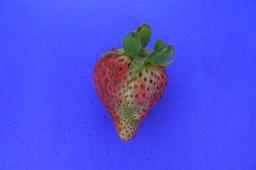red strawberry: (94, 23, 174, 143)
